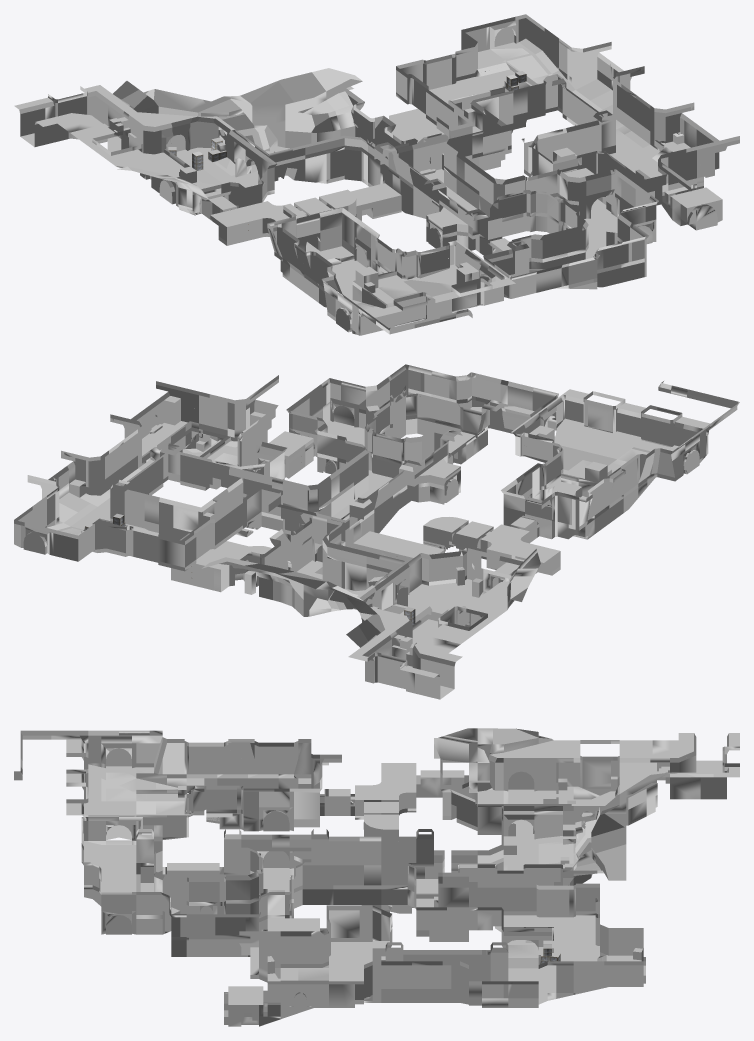
The model's file is kcl.obj.
The picture shows the model from 3 angles, top to bottom: view 1: azimuth 30°, elevation 25°; view 2: azimuth 150°, elevation 25°; view 3: azimuth 270°, elevation 25°; orthographic projection. The views are drawn at different scales.
Visible parts, largest first — view 1: wall_sandstone, wall_decor, wall_sandstoneWindows, road_lyst, wall_rocks, road_stone, road_sand2, road_sand, wall_door, wall_woodBox, wall_woodBox2, wall_metalBox (+1 smaller); view 2: wall_sandstone, wall_decor, wall_sandstoneWindows, road_lyst, wall_rocks, road_stone, road_sand2, road_sand, wall_woodBox, wall_door, wall_woodBox2, road_woodBoxTop; view 3: wall_sandstone, wall_decor, wall_sandstoneWindows, road_lyst, road_stone, wall_rocks, road_sand, road_sand2, wall_woodBox, wall_door, wall_woodBox2, wall_aSiteSign (+2 smaller).
Boxes of the visible parts, <box> form: wall_sandstone: <box>20,18,739,335</box>; wall_decor: <box>19,14,739,335</box>; wall_sandstoneWindows: <box>58,36,696,325</box>; road_lyst: <box>14,69,722,317</box>; wall_rocks: <box>113,68,362,215</box>; road_stone: <box>176,42,657,312</box>; road_sand2: <box>337,169,606,307</box>; road_sand: <box>192,38,659,184</box>; wall_door: <box>159,27,717,248</box>; wall_woodBox: <box>97,127,719,288</box>; wall_woodBox2: <box>108,110,695,293</box>; wall_metalBox: <box>169,73,526,230</box>; wall_sandstone: <box>14,369,737,699</box>; wall_decor: <box>14,364,739,676</box>; wall_sandstoneWindows: <box>38,373,670,689</box>; road_lyst: <box>142,389,710,699</box>; wall_rocks: <box>202,547,540,647</box>; road_stone: <box>57,420,650,622</box>; road_sand2: <box>332,406,678,518</box>; road_sand: <box>46,438,478,613</box>; wall_woodBox: <box>69,398,607,666</box>; wall_door: <box>23,394,575,617</box>; wall_woodBox2: <box>196,414,611,655</box>; road_woodBoxTop: <box>69,396,607,654</box>; wall_sandstone: <box>14,735,728,1026</box>; wall_decor: <box>14,730,739,1024</box>; wall_sandstoneWindows: <box>136,746,617,1007</box>; road_lyst: <box>66,733,739,1004</box>; road_stone: <box>101,766,538,981</box>; wall_rocks: <box>434,728,713,885</box>; road_sand: <box>267,789,641,980</box>; road_sand2: <box>84,764,433,907</box>; wall_woodBox: <box>142,777,665,1005</box>; wall_door: <box>106,771,534,934</box>; wall_woodBox2: <box>154,770,669,1024</box>; wall_aSiteSign: <box>416,910,433,988</box>.
Size of the model in its own units: 45245 by 6140 by 53648.
